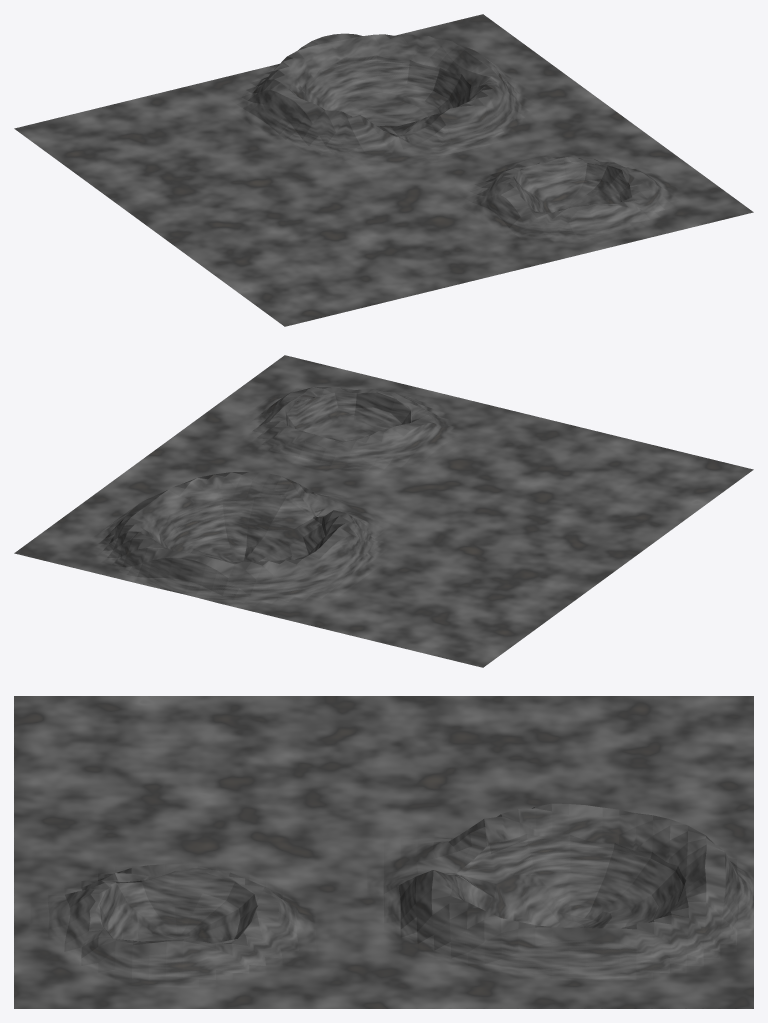
Rendered from Mapa2.glb.
3 renders of one model, top to bottom at view 1: azimuth 30°, elevation 25°; view 2: azimuth 150°, elevation 25°; view 3: azimuth 270°, elevation 25°, orthographic. The views are drawn at different scales.
Visible parts, largest first — view 1: Cube; view 2: Cube; view 3: Cube.
Part boxes in pixels (x1,y1,x2,y2): Cube: [14, 14, 753, 326]; Cube: [14, 355, 753, 667]; Cube: [14, 696, 753, 1008].
Bounding box in the file's own units: 638 × 68 × 638.
1 material, 1 textured.
